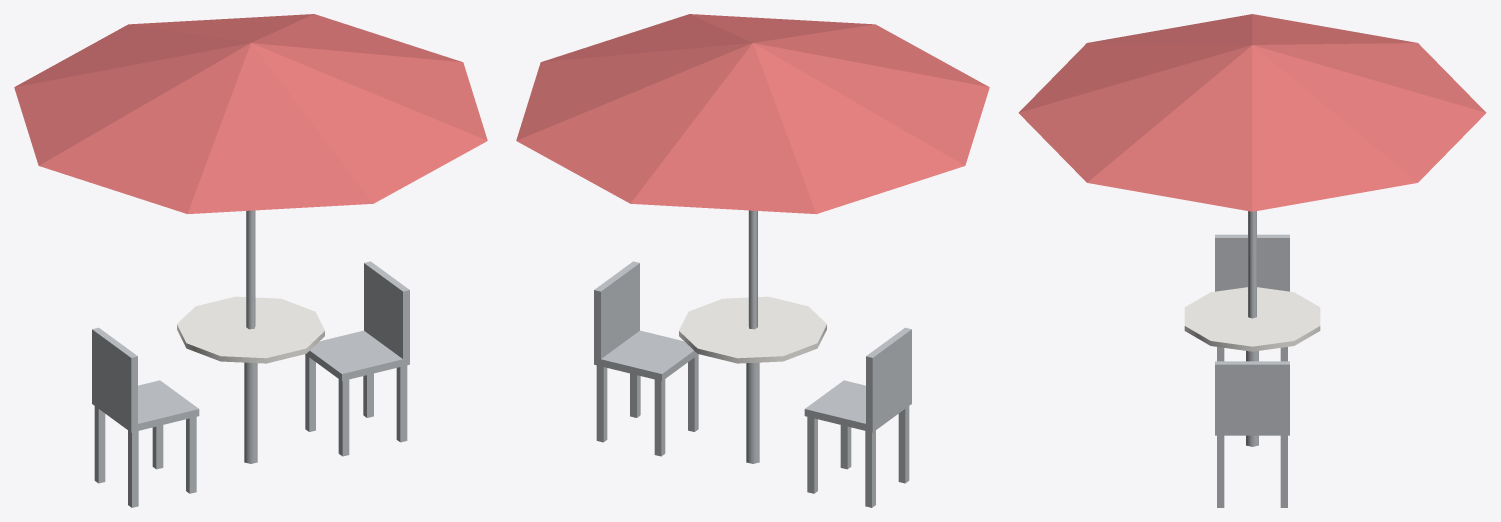
File: cafe_set.glb
3 views of the same model, side by side, from view 1: azimuth 30°, elevation 25°; view 2: azimuth 150°, elevation 25°; view 3: azimuth 270°, elevation 25° (orthographic). The views are drawn at different scales.
Parts seen in each view (by area): view 1: cafe_set; view 2: cafe_set; view 3: cafe_set.
Boxes of the visible parts, x1,y1,x2,y2 form: cafe_set: (14,14,487,507); cafe_set: (516,14,989,507); cafe_set: (1018,14,1486,507).
Size of the model in its own units: 2.5 by 2.35 by 2.5.
